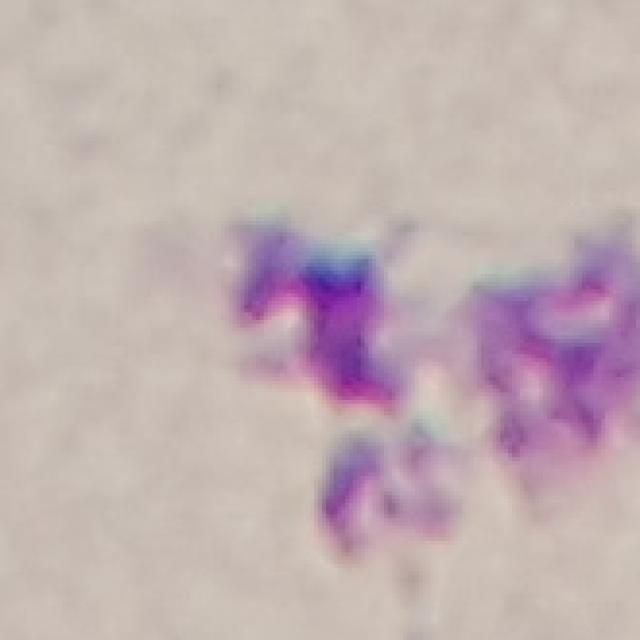non-sperm: (222, 215, 630, 535)
